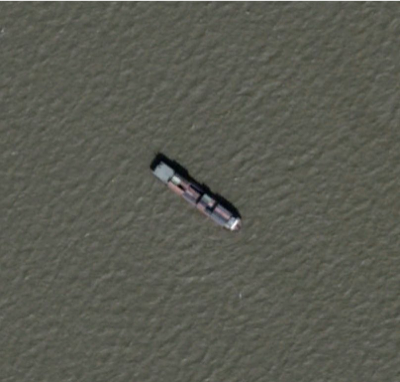boat: (151, 155, 243, 231)
